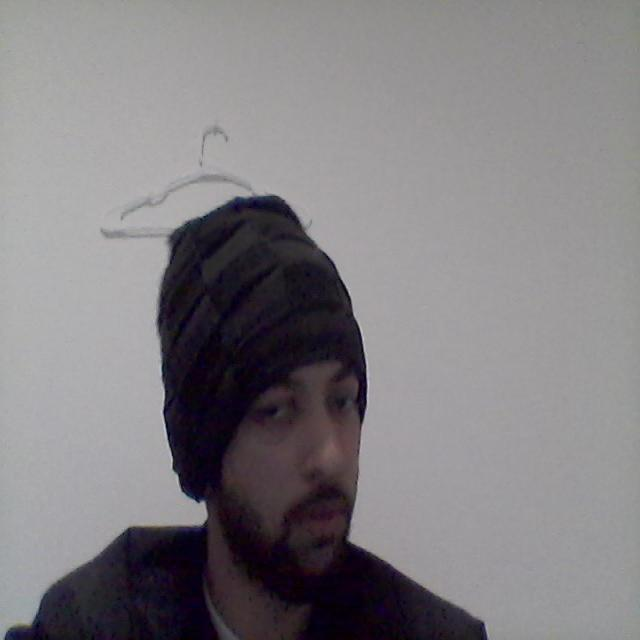cap: (132, 175, 402, 514)
